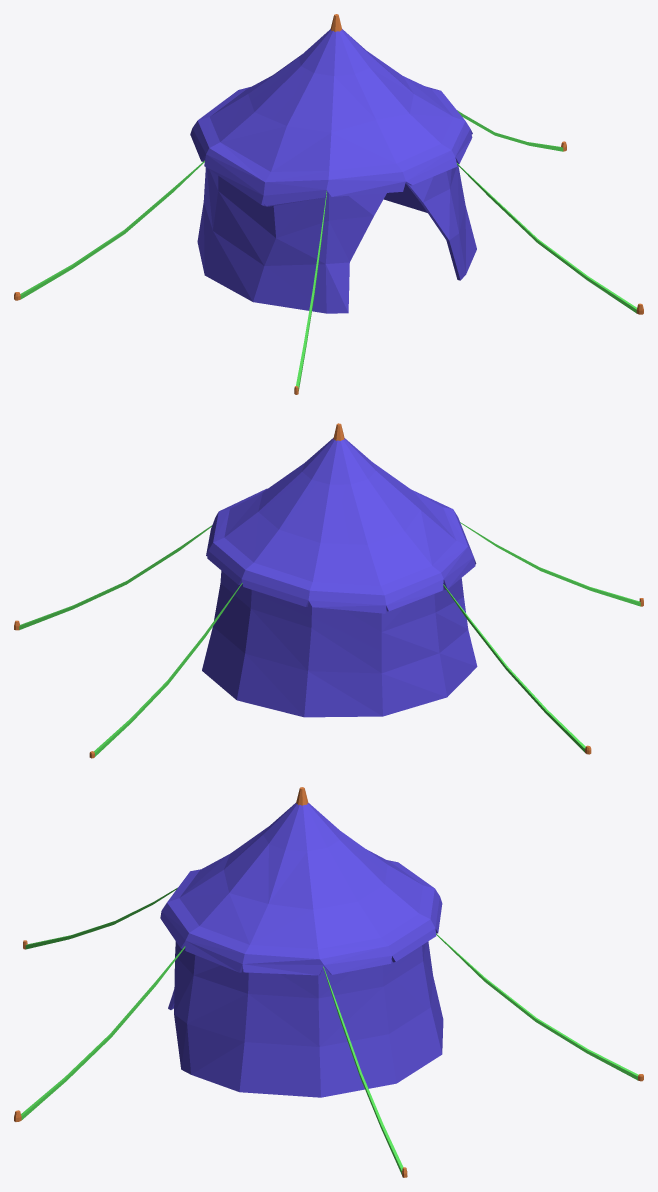
File: Tent_2.fbx
3 renders of one model, top to bottom at view 1: azimuth 30°, elevation 25°; view 2: azimuth 150°, elevation 25°; view 3: azimuth 270°, elevation 25°, orthographic. The views are drawn at different scales.
Parts seen in each view (by area): view 1: Tent_2; view 2: Tent_2; view 3: Tent_2.
Part boxes in pixels (box(x1,y1,x2,y2)): Tent_2: box(14, 14, 643, 394); Tent_2: box(14, 423, 643, 758); Tent_2: box(14, 787, 643, 1177).
Size of the model in its own units: 11.34 by 4.56 by 10.49.
